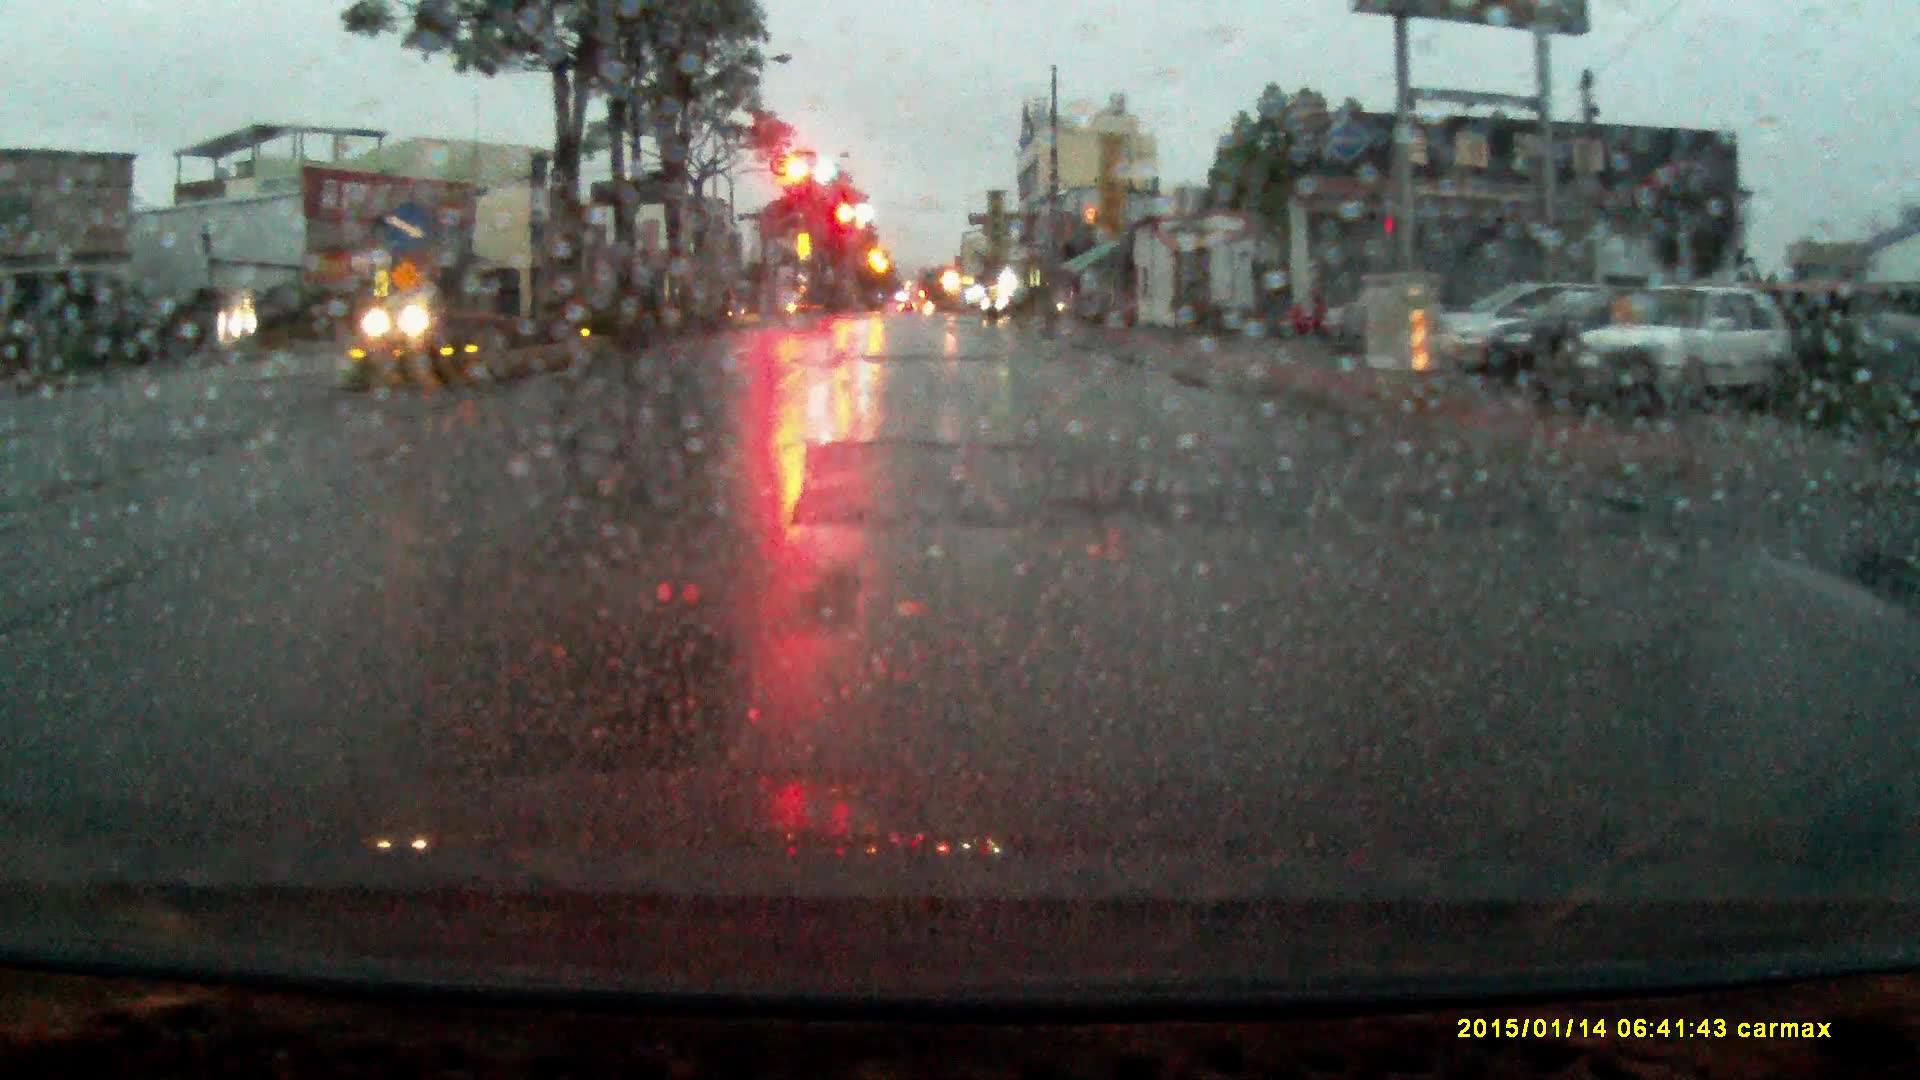vehicle: (1568, 285, 1783, 415), (1462, 287, 1662, 389), (1437, 289, 1577, 368), (361, 289, 458, 352), (977, 286, 1056, 323)
